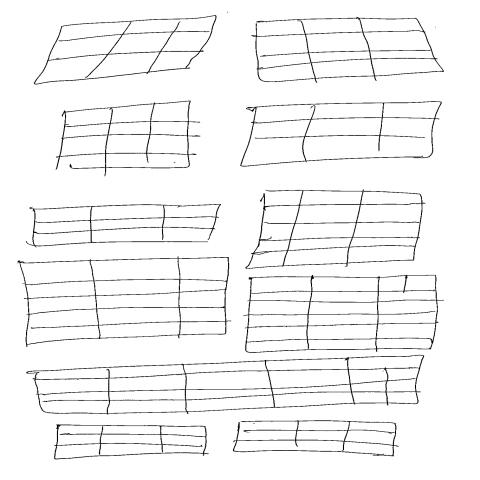Table: (30, 355, 426, 417), (17, 257, 233, 349), (242, 275, 440, 352), (243, 190, 425, 271), (238, 100, 443, 170), (32, 14, 220, 86), (253, 18, 447, 84), (53, 101, 194, 174), (28, 202, 221, 248), (231, 420, 398, 459), (53, 423, 210, 462)
